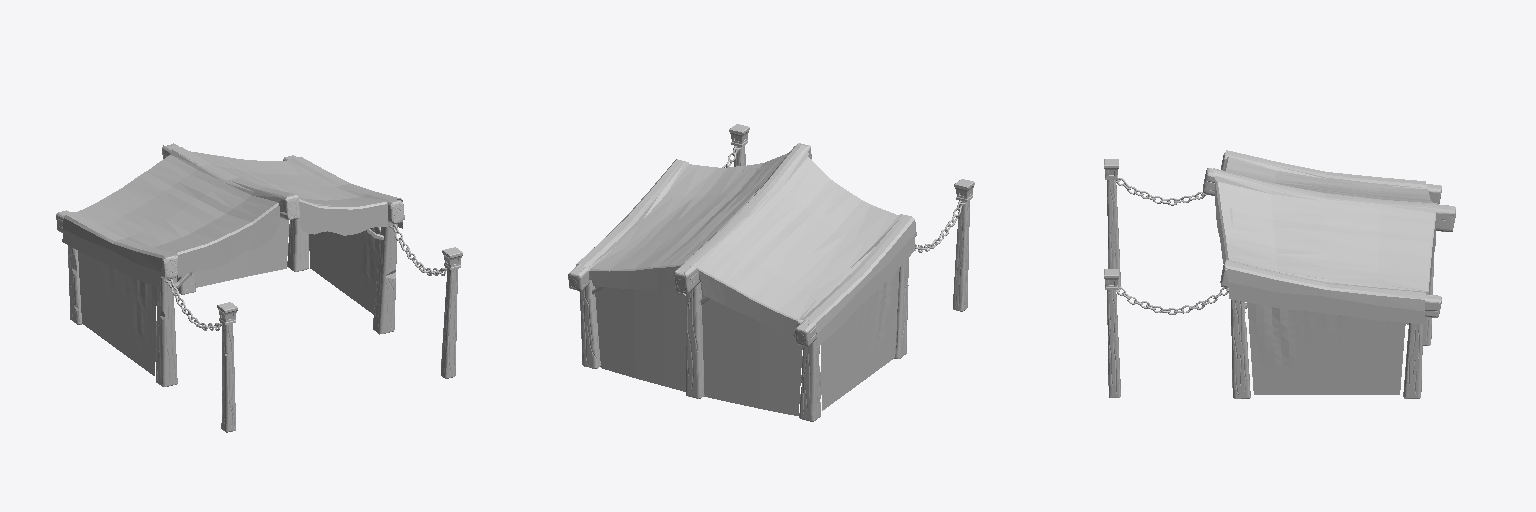
Rendered from Tent.obj.
The picture shows the model from 3 angles: view 1: azimuth 30°, elevation 25°; view 2: azimuth 150°, elevation 25°; view 3: azimuth 270°, elevation 25°; orthographic projection.
Visible parts, largest first — view 1: polySurface66 Tent:polySurface974, polySurface13, polySurface54; view 2: polySurface66 Tent:polySurface974, polySurface13, polySurface54; view 3: polySurface66 Tent:polySurface974, polySurface13, polySurface54.
Boxes of the visible parts, <box> form: polySurface66 Tent:polySurface974: <box>62,147,402,287</box>; polySurface13: <box>78,218,462,375</box>; polySurface54: <box>56,143,457,432</box>; polySurface66 Tent:polySurface974: <box>576,144,914,347</box>; polySurface13: <box>595,124,974,415</box>; polySurface54: <box>568,143,969,421</box>; polySurface66 Tent:polySurface974: <box>1212,150,1438,324</box>; polySurface13: <box>1104,159,1405,394</box>; polySurface54: <box>1107,152,1455,398</box>.
Bounding box in the file's own units: 492 × 337 × 619.